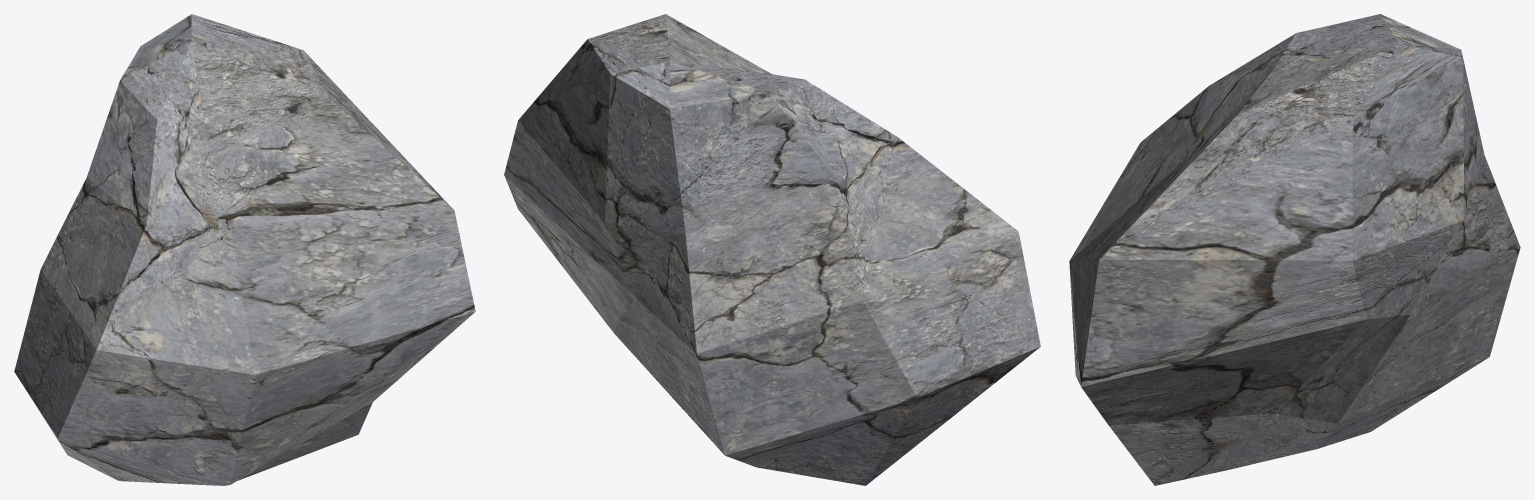
The model's file is 01_rock_sharp.fbx.
3 renders of one model, left to right at view 1: azimuth 30°, elevation 25°; view 2: azimuth 150°, elevation 25°; view 3: azimuth 270°, elevation 25°, orthographic. The views are drawn at different scales.
Parts seen in each view (by area): view 1: pSphere1; view 2: pSphere1; view 3: pSphere1.
Part boxes in pixels (<box>): pSphere1: <box>14,14,475,485</box>; pSphere1: <box>504,14,1040,485</box>; pSphere1: <box>1069,14,1520,485</box>.
Bounding box in the file's own units: 2.36 × 1.95 × 1.83.
Materials: 1 (1 with a texture image).
